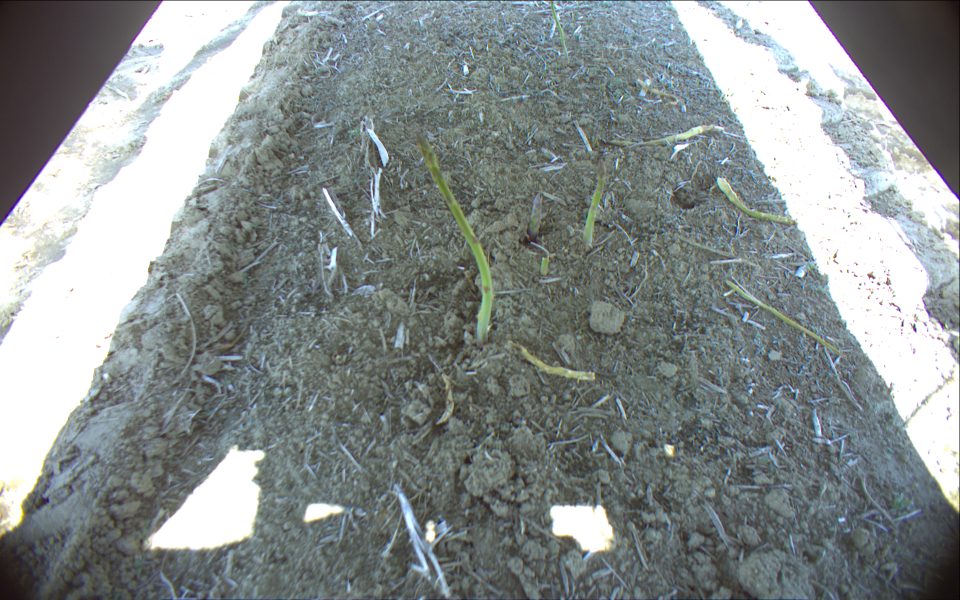aspa: (414, 130, 495, 343), (726, 280, 848, 359), (716, 176, 793, 226), (507, 343, 595, 380), (605, 123, 725, 147), (582, 158, 606, 253), (548, 1, 568, 58), (527, 192, 542, 239), (540, 255, 549, 277)
